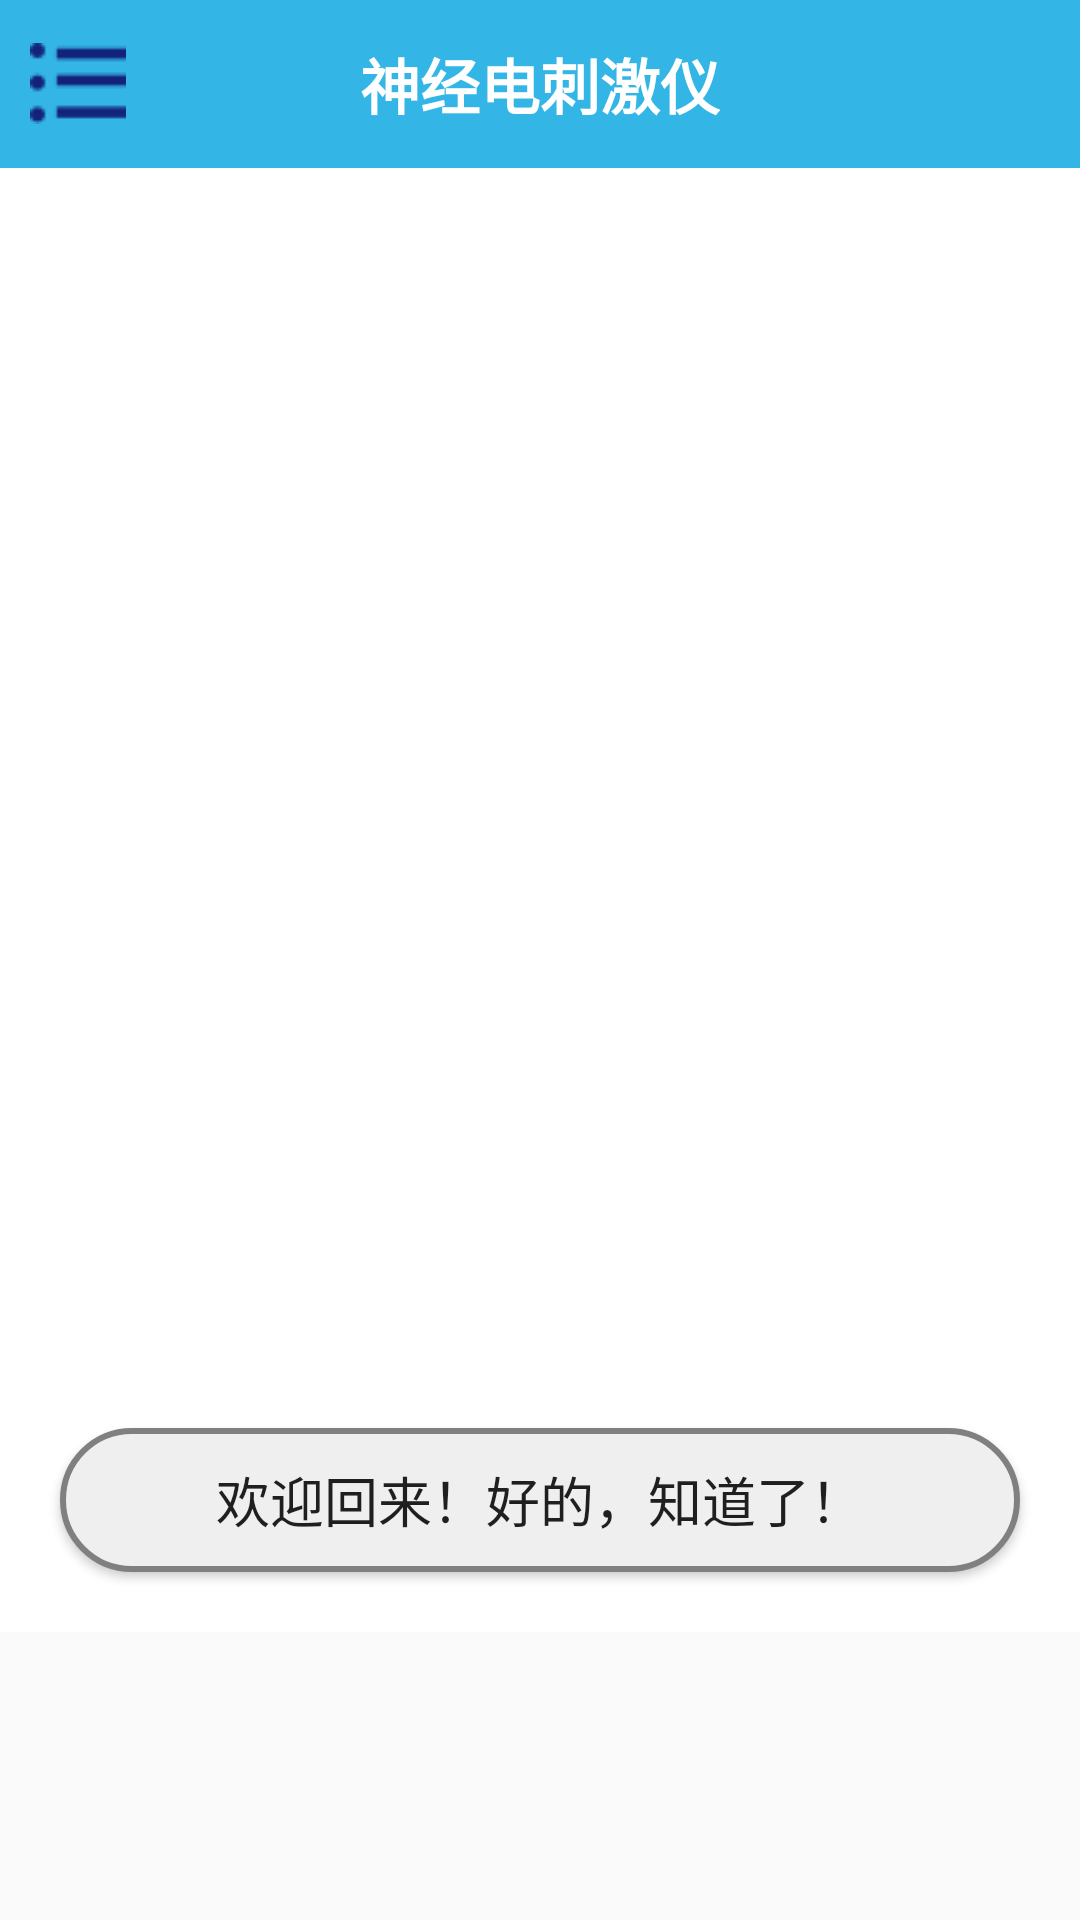

Screen size 1080x1920. Icon name, then its center in pixels as (x,y):
选择器: (78,83)
